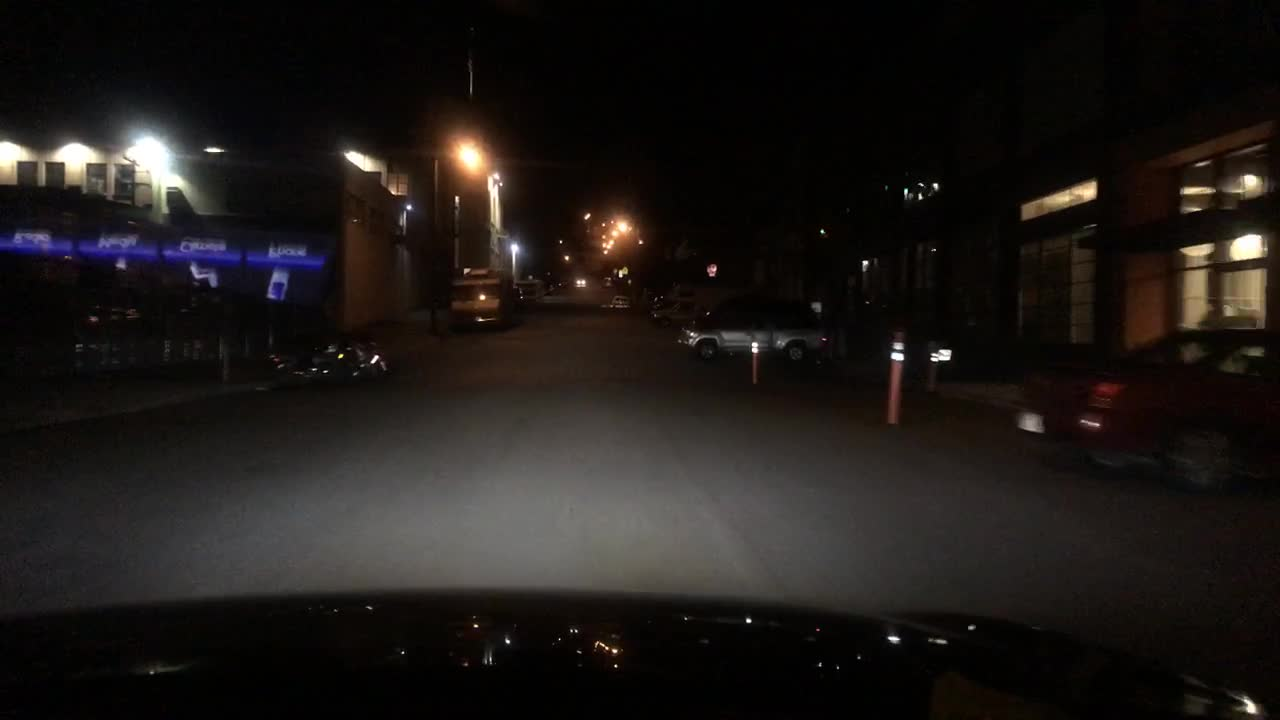car: (1077, 324, 1277, 503), (1017, 339, 1125, 475), (649, 283, 741, 324), (513, 280, 550, 303), (608, 290, 633, 313), (599, 271, 617, 291), (573, 276, 589, 288)
motor: (253, 335, 391, 393)
traffic sign: (672, 295, 831, 365), (706, 260, 719, 279)
truck: (450, 261, 523, 332)
